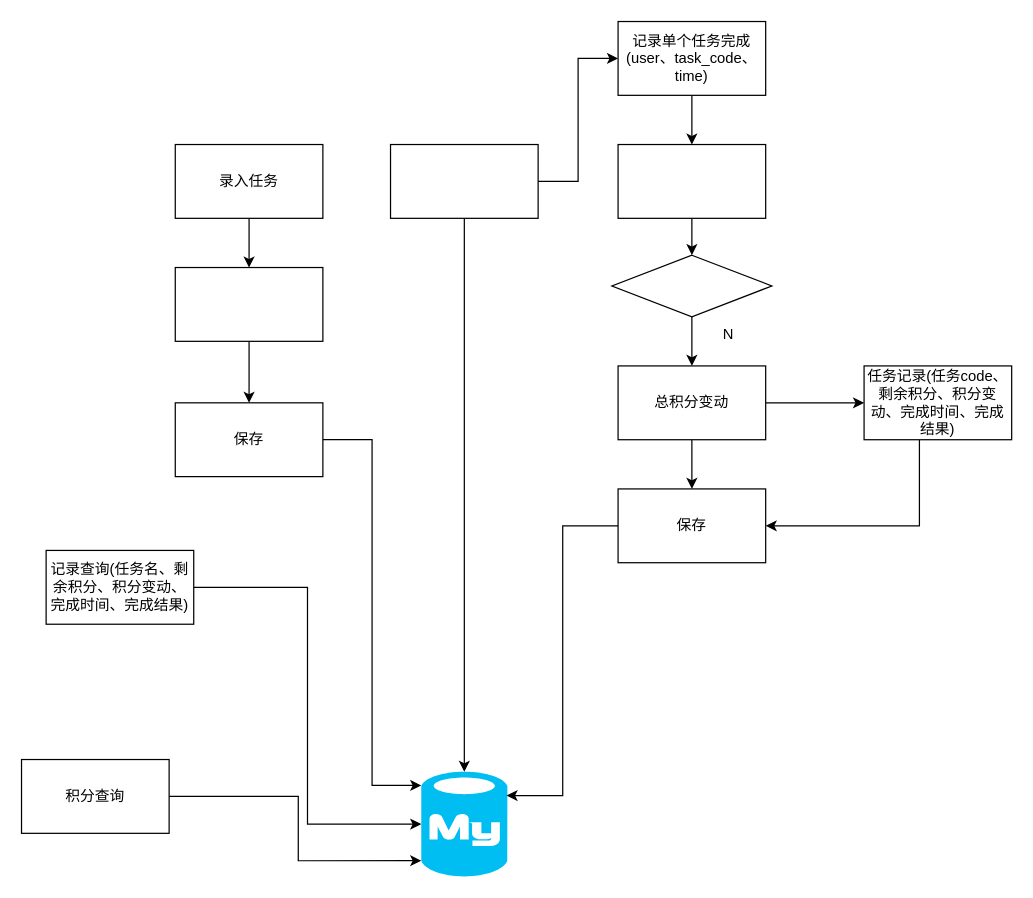
Image size: 1033x898. Some labels were removed from this diagram. Each missing label, with the centre of its shape:
任务列表查询(task_name,task_code,num): point 463,180
取token用户、任务关联: point 248,303
积分不足判断: point 691,285
积分查询(user): point 691,180
